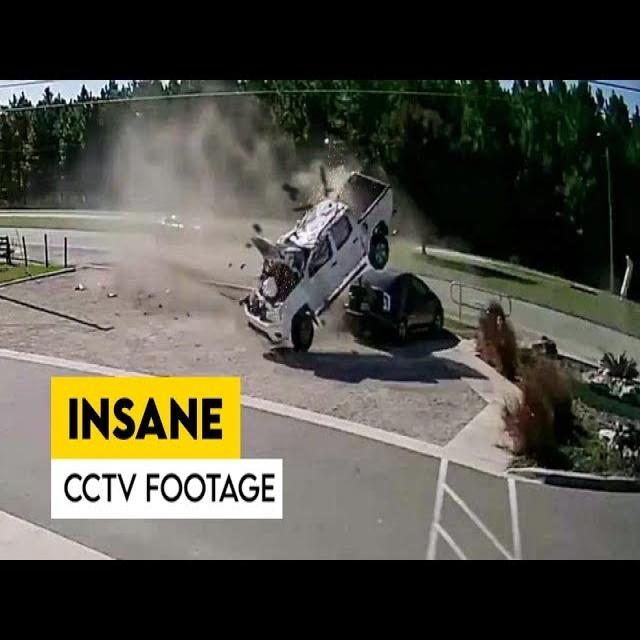Accident: (242, 166, 448, 360)
